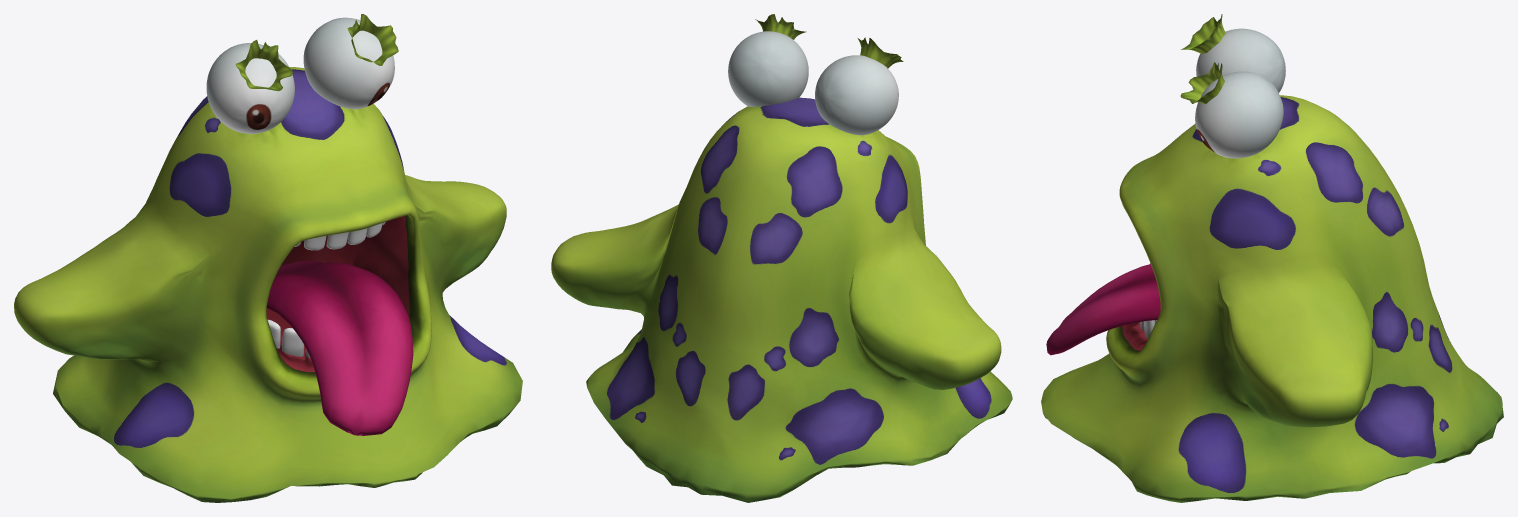
3 renders of one model, left to right at view 1: azimuth 30°, elevation 25°; view 2: azimuth 150°, elevation 25°; view 3: azimuth 270°, elevation 25°, orthographic. The views are drawn at different scales.
Visible parts, largest first — view 1: numemon; view 2: numemon; view 3: numemon.
Boxes of the visible parts, box(x1,y1,x2,y2) form: numemon: box(14, 14, 522, 502); numemon: box(551, 14, 1012, 502); numemon: box(1041, 14, 1503, 502).
Bounding box in the file's own units: 44.01 × 35.81 × 38.65.
1 material, 1 textured.
